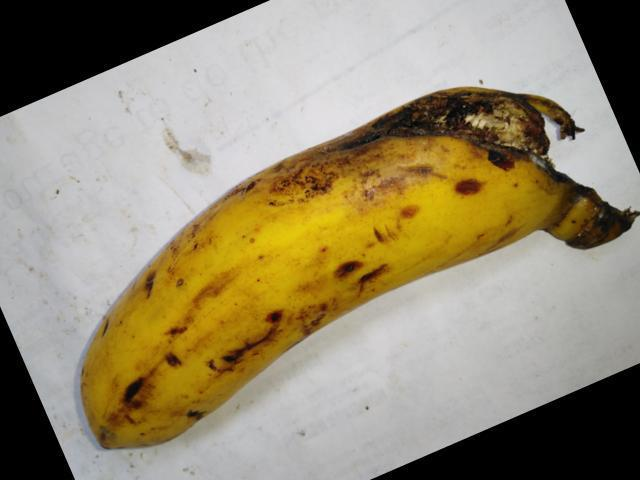ripe: (56, 137, 469, 441)
rotten: (322, 62, 639, 256)
